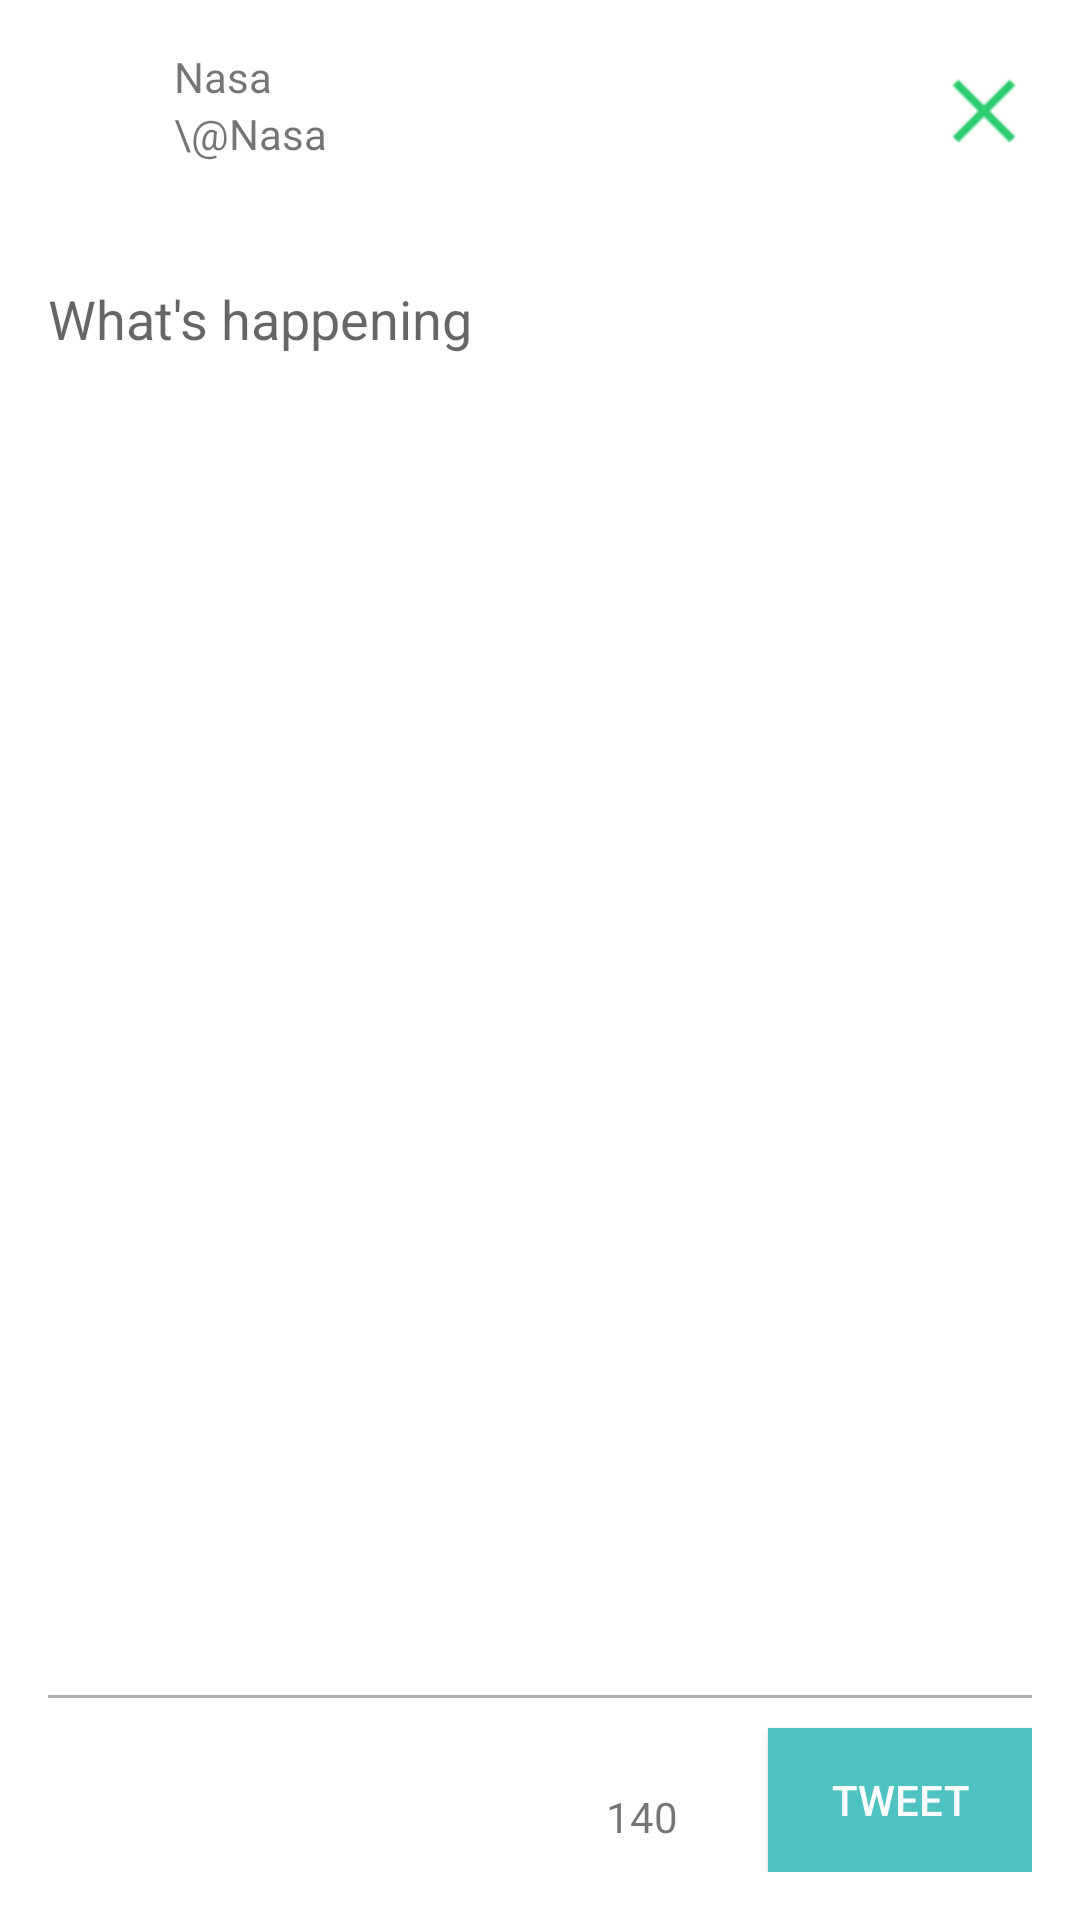

Icon click points for this 1080 x 1920 phone screenshot, format (x=x, y=y):
CANCEL: (x=984, y=111)
